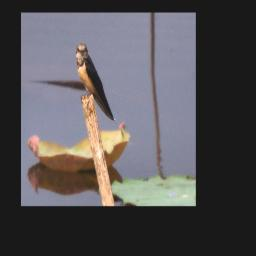Swallow: (75, 43, 115, 124)
